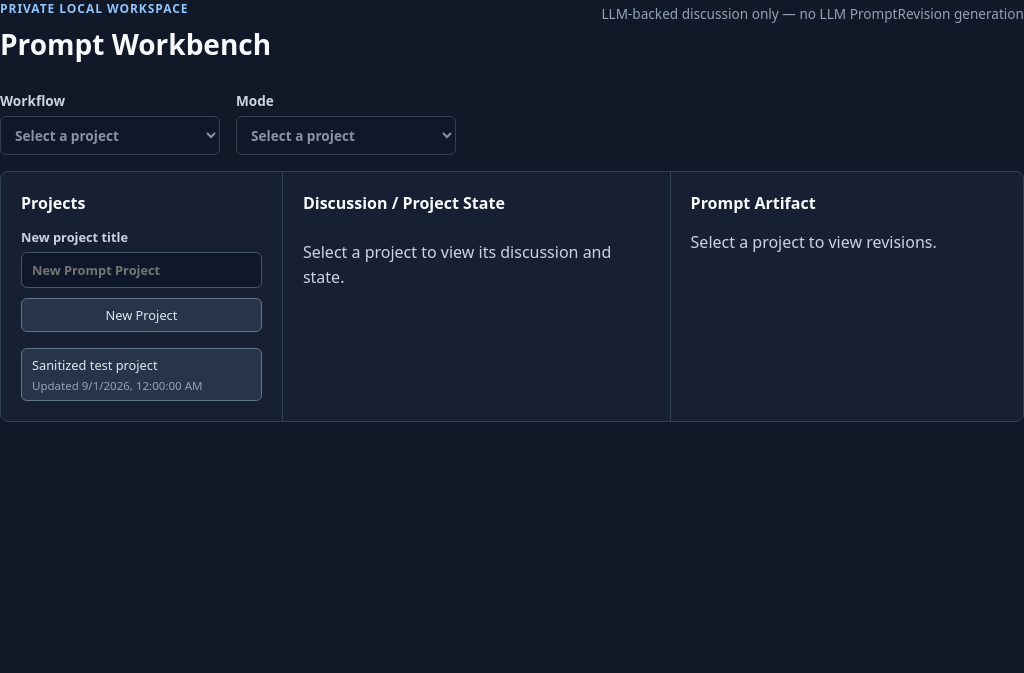
Test case: Prompt Workbench persistence UI › discards a proposed revision
Click the button "Sanitized test project Updated 9/1/2026, 12:00:00 AM" at (141, 374), box [21,348,262,401]
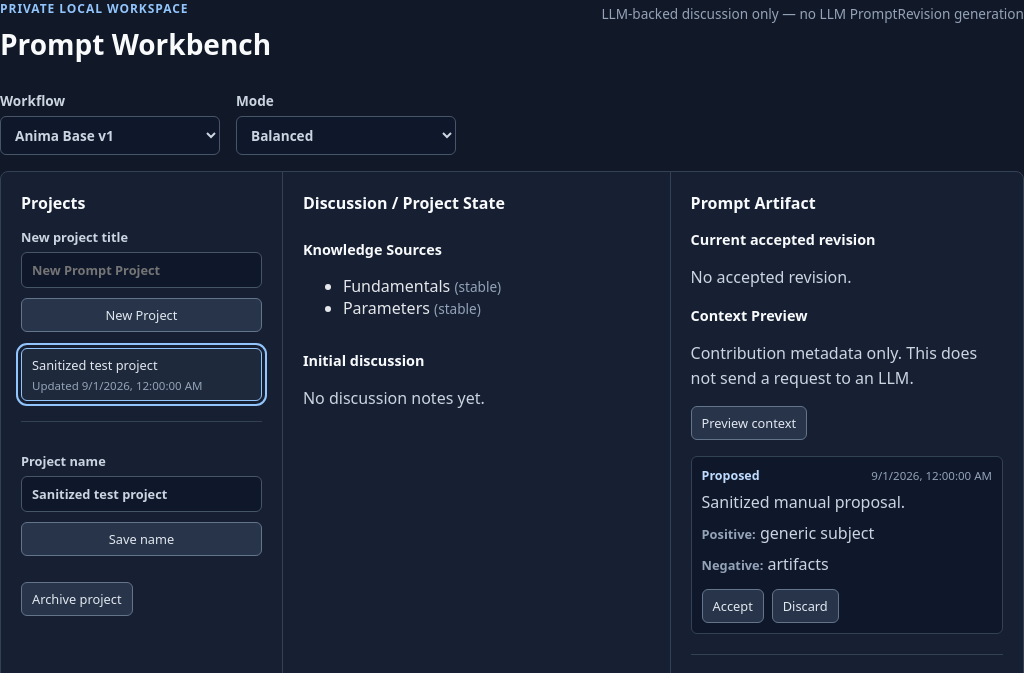
Expected: the text "No discussion notes yet." is shown, [303,387,485,409]
Click the button "Discard" at (805, 606), box [772,589,839,623]
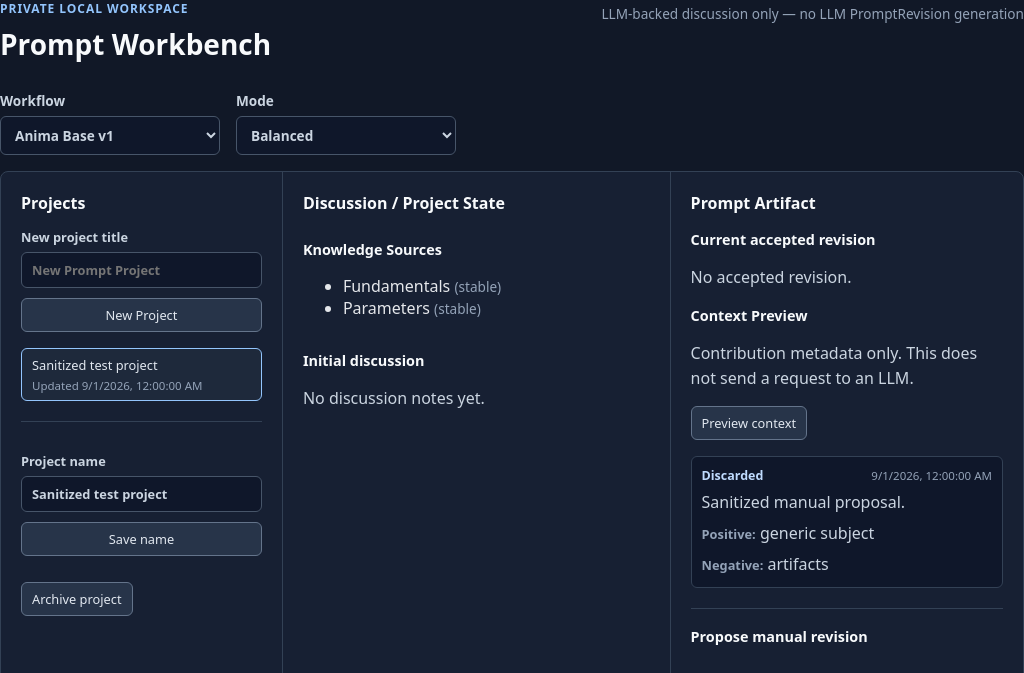
Expected: the text "discarded" is shown, [702,467,763,484]
